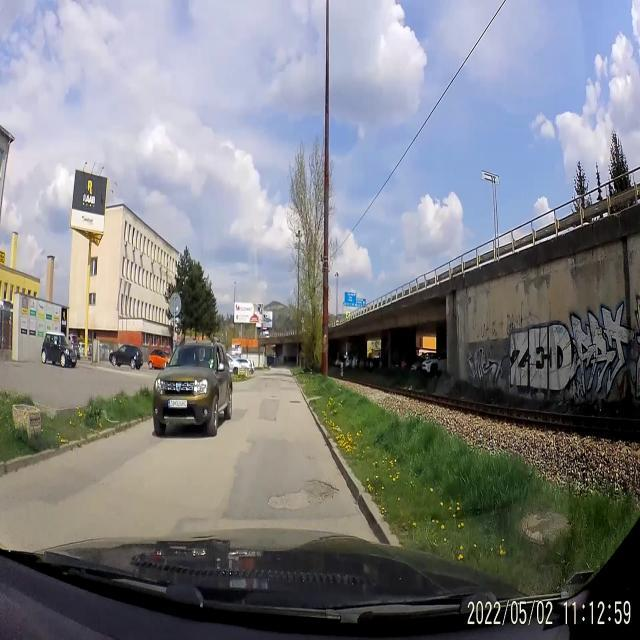Pothole: (266, 467, 340, 520), (288, 396, 302, 408), (268, 392, 280, 402)
